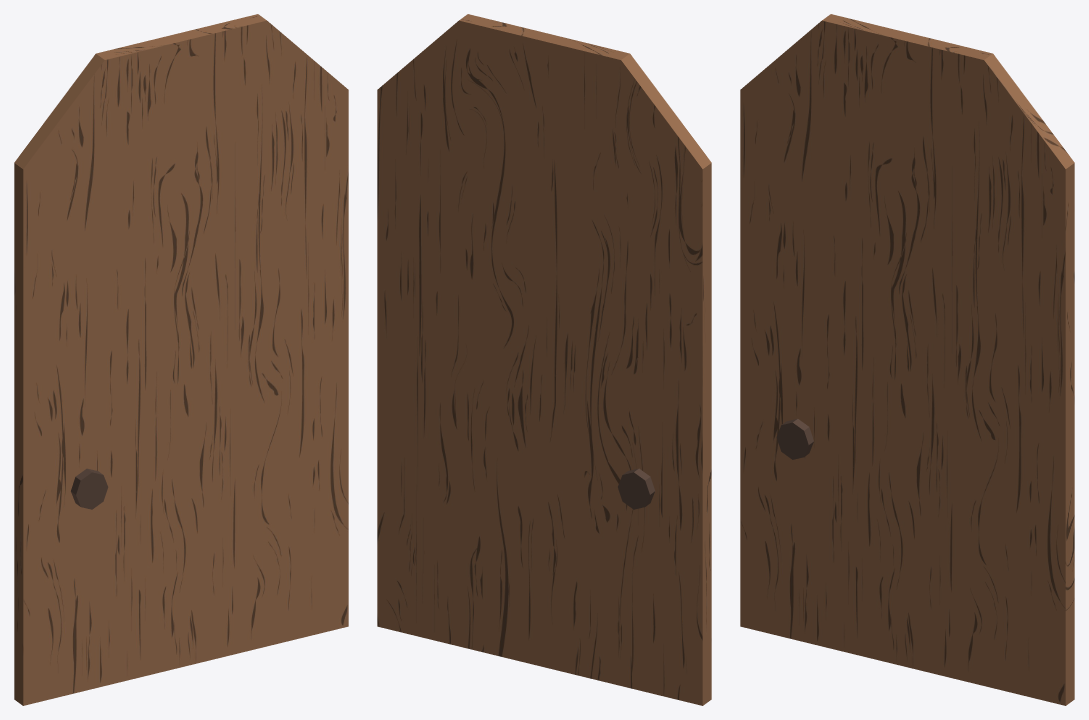
Rendered from door.fbx.
3 renders of one model, left to right at view 1: azimuth 30°, elevation 25°; view 2: azimuth 150°, elevation 25°; view 3: azimuth 330°, elevation 25°, orthographic.
Parts seen in each view (by area): view 1: geo_door; view 2: geo_door; view 3: geo_door.
Part boxes in pixels (bbox=[...]): geo_door: bbox=[14, 14, 348, 705]; geo_door: bbox=[377, 14, 711, 705]; geo_door: bbox=[740, 14, 1074, 705].
Size of the model in its own units: 296 by 544 by 40.14.
Materials: 2 (1 with a texture image).
